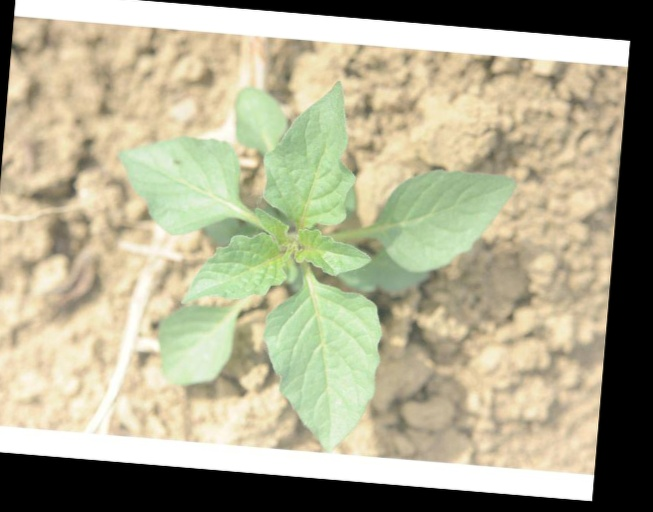nightshade: (110, 76, 509, 449)
